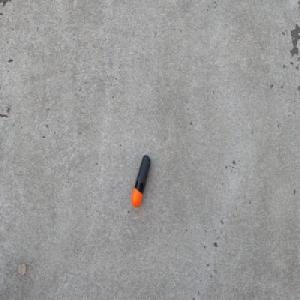PlasticPart: (131, 154, 151, 208)
